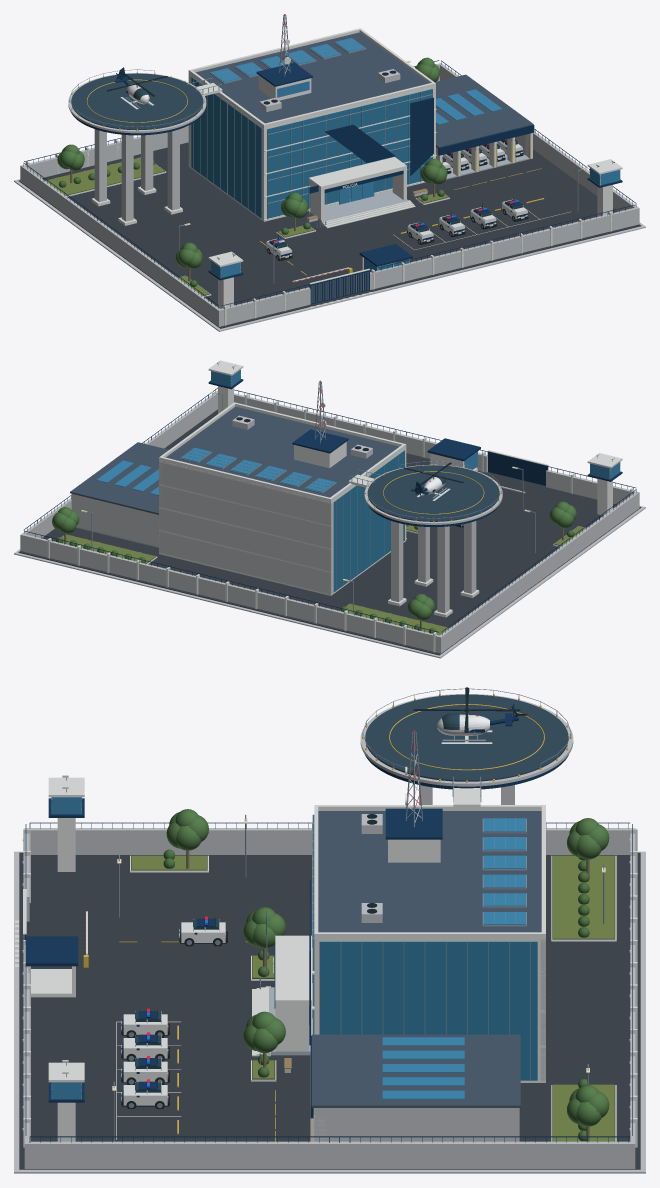
Rendered from posto-policial.glb.
3 views of the same model, one above another, from view 1: azimuth 30°, elevation 25°; view 2: azimuth 150°, elevation 25°; view 3: azimuth 270°, elevation 25° (orthographic). The views are drawn at different scales.
Parts seen in each view (by area): view 1: police-asphalt-courtyard, police-glass-front-glass, police-roof-roof-membrane, police-glass-left-glass, police-helipad-helipad-surface, police-concrete-wall-front--10000, police-concrete-wall-side--35500, police-roof-garage-roof, police-concrete-plot, police-concrete-wall-side-35000, police-concrete-wall-rear, police-concrete-wall-front--35000 (+20 smaller); view 2: police-asphalt-courtyard, police-concrete-rear-wall, police-roof-roof-membrane, police-concrete-wall-rear, police-helipad-helipad-surface, police-glass-left-glass, police-concrete-wall-side--35500, police-roof-garage-roof, police-concrete-garage-back, police-concrete-plot, police-concrete-wall-front--10000, police-concrete-wall-side-35000 (+18 smaller); view 3: police-asphalt-courtyard, police-glass-right-glass, police-roof-roof-membrane, police-concrete-wall-side-35000, police-helipad-helipad-surface, police-roof-garage-roof, police-concrete-wall-side--35500, police-concrete-garage-side-32800, police-concrete-plot, police-grass-garden-grass--34500-21000, police-white-portal-roof, police-grass-garden-grass-17000-21000 (+27 smaller).
Boxes of the visible parts, x1,y1,x2,y2 form: police-asphalt-courtyard: [18, 142, 641, 328]; police-glass-front-glass: [267, 89, 432, 218]; police-roof-roof-membrane: [195, 32, 428, 123]; police-glass-left-glass: [191, 77, 262, 218]; police-helipad-helipad-surface: [71, 73, 203, 130]; police-concrete-wall-front--10000: [370, 207, 636, 289]; police-concrete-wall-side--35500: [20, 165, 221, 326]; police-roof-garage-roof: [435, 74, 533, 148]; police-concrete-plot: [14, 179, 645, 331]; police-concrete-wall-side-35000: [438, 63, 639, 224]; police-concrete-wall-rear: [24, 64, 439, 178]; police-concrete-wall-front--35000: [220, 287, 310, 325]; police-asphalt-courtyard: [18, 409, 641, 655]; police-concrete-rear-wall: [159, 461, 332, 595]; police-roof-roof-membrane: [166, 406, 398, 497]; police-concrete-wall-rear: [23, 534, 439, 652]; police-helipad-helipad-surface: [367, 465, 499, 521]; police-glass-left-glass: [333, 450, 404, 592]; police-concrete-wall-side--35500: [438, 491, 639, 653]; police-roof-garage-roof: [70, 442, 168, 514]; police-concrete-garage-back: [71, 494, 158, 546]; police-concrete-plot: [14, 506, 645, 658]; police-concrete-wall-front--10000: [234, 393, 487, 472]; police-concrete-wall-side-35000: [20, 390, 217, 551]; police-asphalt-courtyard: [19, 852, 640, 1169]; police-glass-right-glass: [319, 941, 537, 1080]; police-roof-roof-membrane: [318, 811, 541, 932]; police-concrete-wall-side-35000: [24, 1141, 635, 1168]; police-helipad-helipad-surface: [365, 694, 568, 781]; police-roof-garage-roof: [312, 1034, 520, 1107]; police-concrete-wall-side--35500: [24, 828, 635, 854]; police-concrete-garage-side-32800: [314, 1108, 519, 1141]; police-concrete-plot: [14, 851, 645, 1173]; police-grass-garden-grass--34500-21000: [553, 855, 614, 938]; police-white-portal-roof: [275, 935, 311, 1005]; police-grass-garden-grass-17000-21000: [553, 1084, 614, 1141].
Bounding box in the file's own units: 72 × 28.18 × 60.
